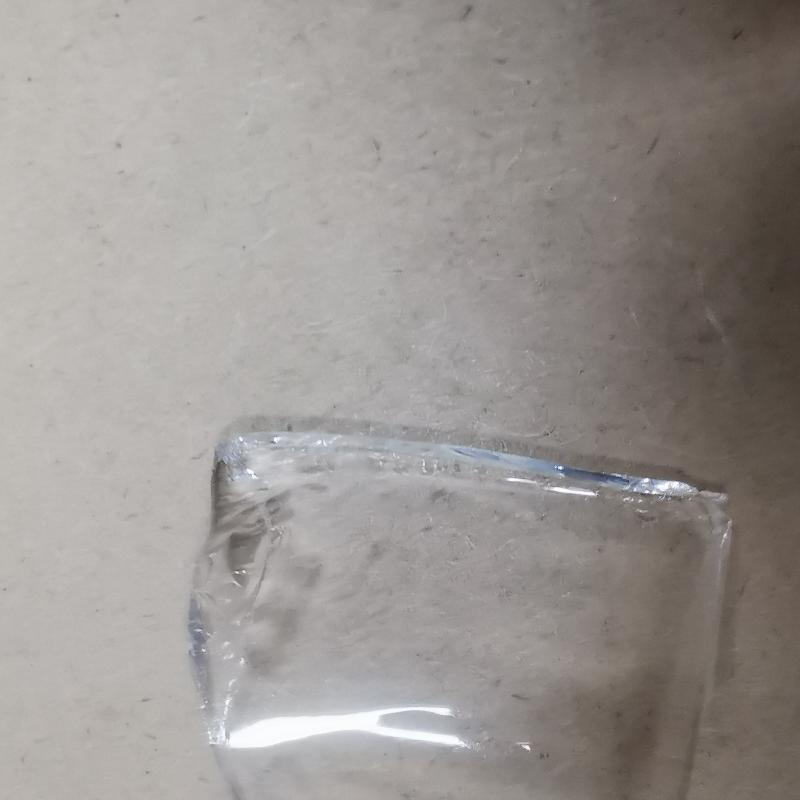glass: (183, 430, 736, 800)
